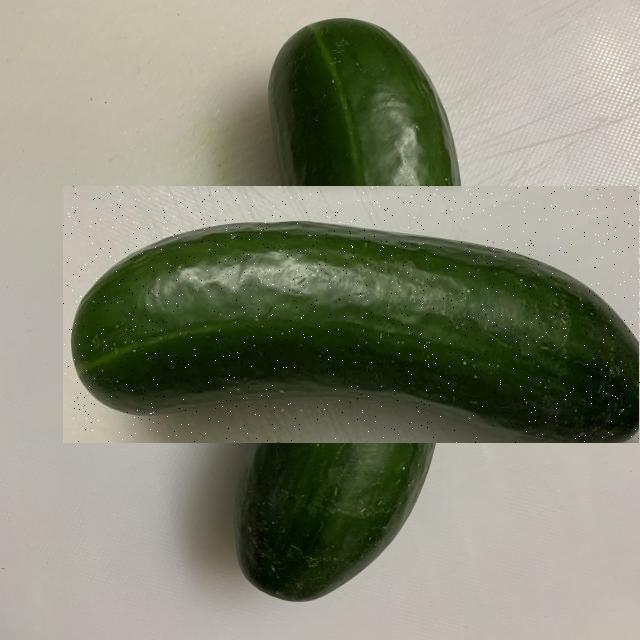Cucumber: (66, 220, 640, 443)
